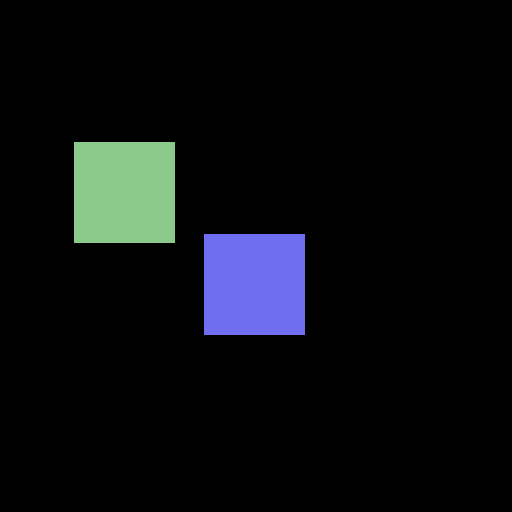square: (204, 234, 304, 334), (74, 142, 174, 242)
